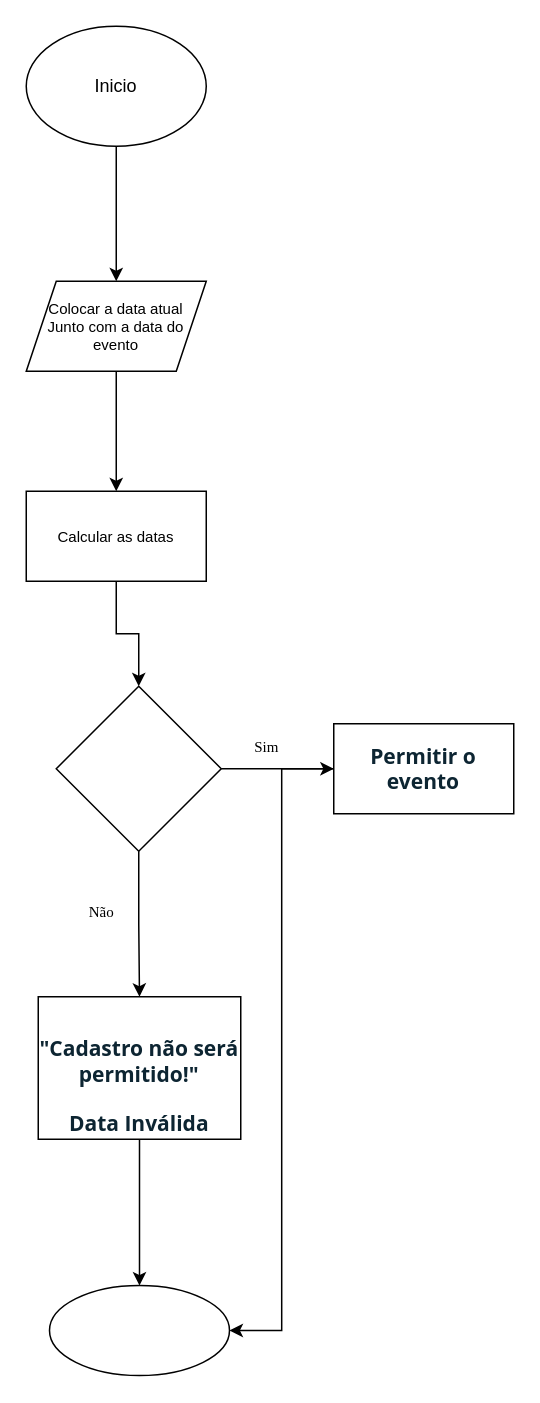
Some shapes in this 540 by 1403 pixel diagram are drawn without their labels. Each missing label, with the centre of its shape:
Fim: (139,1330)
É posterior ao evento?: (138,768)
